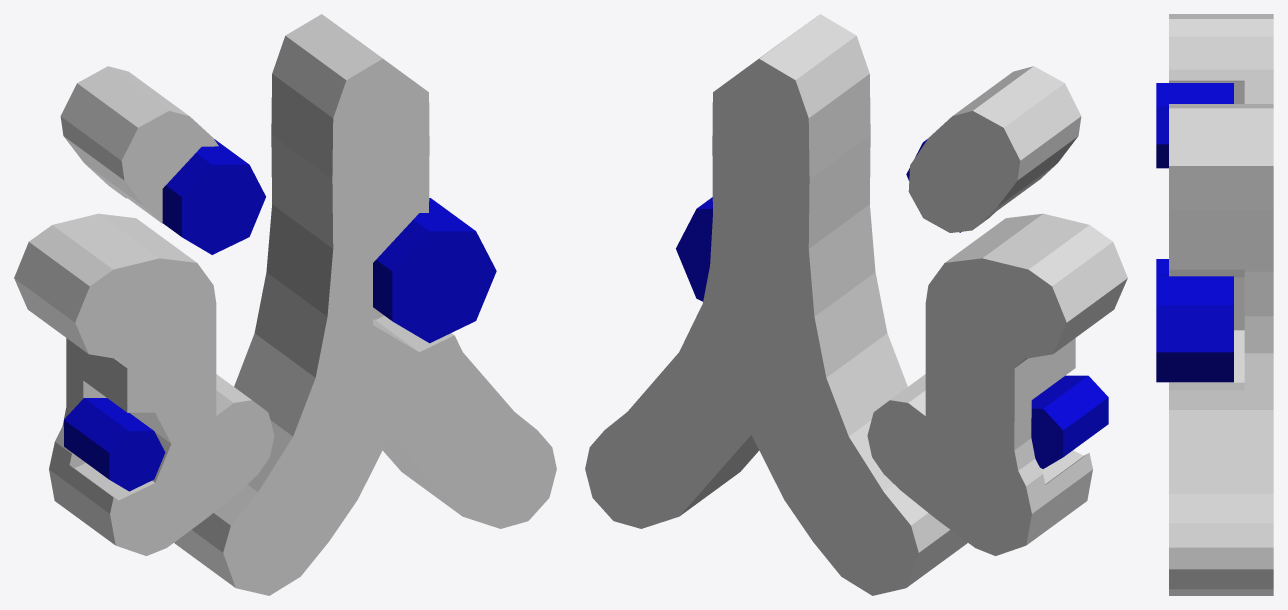
File: Ch_Lite_China_认_01.fbx
3 renders of one model, left to right at view 1: azimuth 30°, elevation 25°; view 2: azimuth 150°, elevation 25°; view 3: azimuth 270°, elevation 25°, orthographic. The views are drawn at different scales.
Visible parts, largest first — view 1: sphere1; view 2: sphere1; view 3: sphere1.
Part boxes in pixels (x1=…): sphere1: x1=14, y1=14, x2=556, y2=595; sphere1: x1=585, y1=14, x2=1127, y2=595; sphere1: x1=1156, y1=14, x2=1273, y2=595.
Size of the model in its own units: 0.9106 by 0.9204 by 0.2242.
